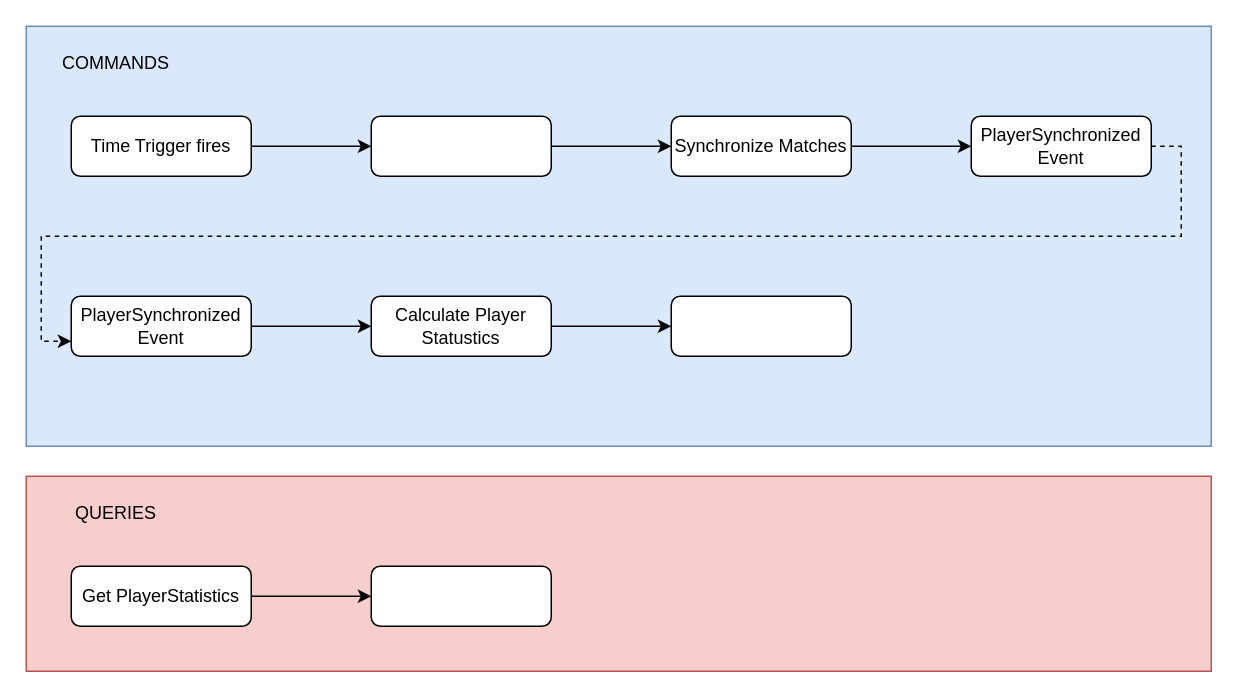
Some shapes in this 1238 by 698 pixel diagram are drawn without their labels. The centre of each missing label's shape, as x and y in pixels:
"Return Player Statistics ReadModel" goes at point 460,595.
"Store Player Statistics ReadModel" goes at point 760,325.
"Synchronize Player" goes at point 460,145.
